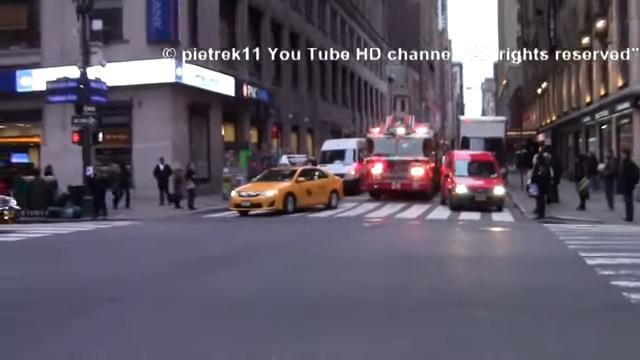Fire-engine: (361, 113, 441, 200)
